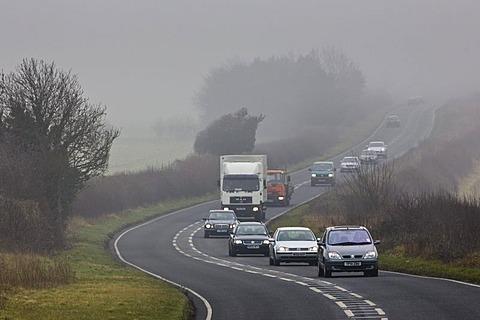bus: (216, 153, 269, 223)
car: (316, 224, 382, 278), (267, 225, 321, 267), (228, 222, 275, 258), (308, 161, 338, 187), (205, 210, 240, 227), (338, 155, 362, 172), (364, 142, 388, 159), (359, 149, 378, 165), (385, 113, 401, 128)
